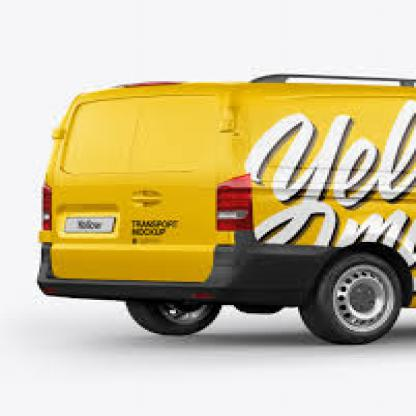van: (33, 75, 414, 343)
